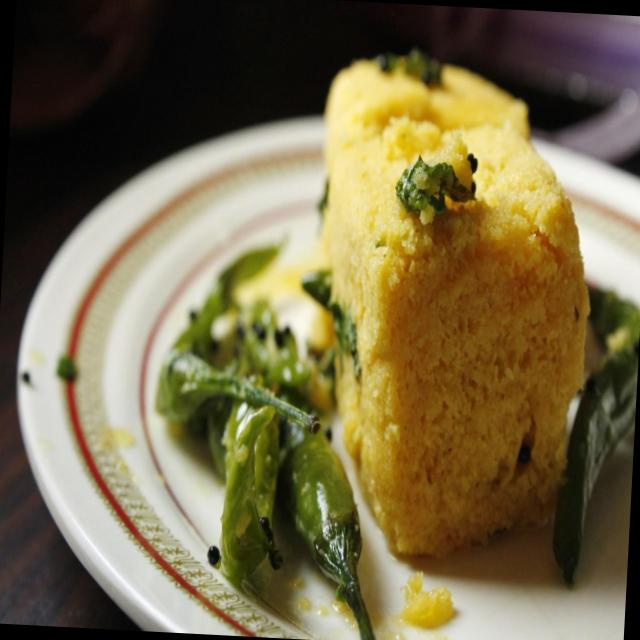dhokla: (301, 59, 602, 554)
